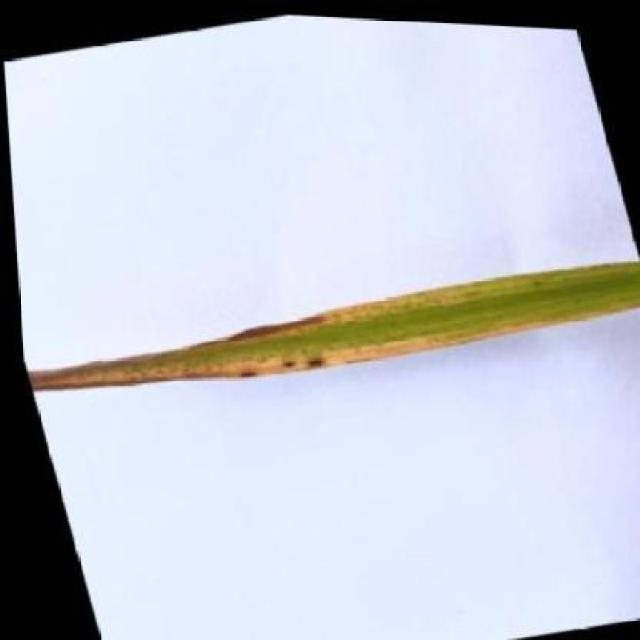Rice False Smut: (12, 225, 640, 441)
